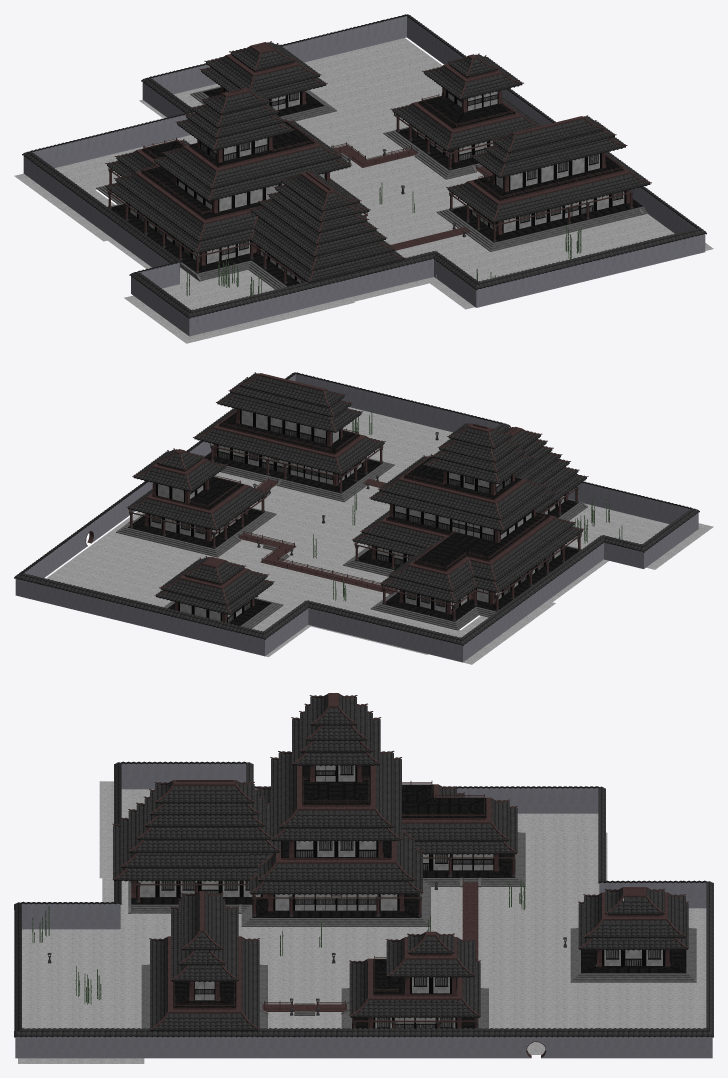
Rendered from chinese_gufeng_style_modular_kit.glb.
The picture shows the model from 3 angles, top to bottom: view 1: azimuth 30°, elevation 25°; view 2: azimuth 150°, elevation 25°; view 3: azimuth 270°, elevation 25°; orthographic projection. The views are drawn at different scales.
Parts seen in each view (by area): view 1: Fence_LeftPivot59_MAT_RoofTrim_0, Fence_LeftPivot59_MAT_Ground_0, Fence_LeftPivot59_MAT_TrimSheetWalls_0, Fence_LeftPivot59_MAT_MIsc_0, Fence_LeftPivot59_MAT_Decor_0; view 2: Fence_LeftPivot59_MAT_RoofTrim_0, Fence_LeftPivot59_MAT_Ground_0, Fence_LeftPivot59_MAT_TrimSheetWalls_0, Fence_LeftPivot59_MAT_MIsc_0, Fence_LeftPivot59_MAT_Decor_0; view 3: Fence_LeftPivot59_MAT_RoofTrim_0, Fence_LeftPivot59_MAT_Ground_0, Fence_LeftPivot59_MAT_TrimSheetWalls_0, Fence_LeftPivot59_MAT_MIsc_0, Fence_LeftPivot59_MAT_Decor_0.
Boxes of the visible parts, x1,y1,x2,y2 form: Fence_LeftPivot59_MAT_RoofTrim_0: (22, 14, 706, 336); Fence_LeftPivot59_MAT_Ground_0: (14, 38, 713, 343); Fence_LeftPivot59_MAT_TrimSheetWalls_0: (110, 87, 642, 286); Fence_LeftPivot59_MAT_MIsc_0: (107, 43, 633, 284); Fence_LeftPivot59_MAT_Decor_0: (186, 126, 581, 296); Fence_LeftPivot59_MAT_RoofTrim_0: (14, 372, 699, 662); Fence_LeftPivot59_MAT_Ground_0: (46, 407, 713, 664); Fence_LeftPivot59_MAT_TrimSheetWalls_0: (128, 409, 578, 625); Fence_LeftPivot59_MAT_MIsc_0: (129, 410, 581, 621); Fence_LeftPivot59_MAT_Decor_0: (235, 411, 622, 601); Fence_LeftPivot59_MAT_RoofTrim_0: (14, 693, 713, 1058); Fence_LeftPivot59_MAT_Ground_0: (18, 781, 706, 1063); Fence_LeftPivot59_MAT_TrimSheetWalls_0: (131, 765, 686, 1028); Fence_LeftPivot59_MAT_MIsc_0: (47, 776, 644, 1028); Fence_LeftPivot59_MAT_Decor_0: (32, 879, 525, 1004).
Size of the model in its own units: 1.27 by 0.3576 by 1.33.
Materials: 5 (5 with a texture image).
